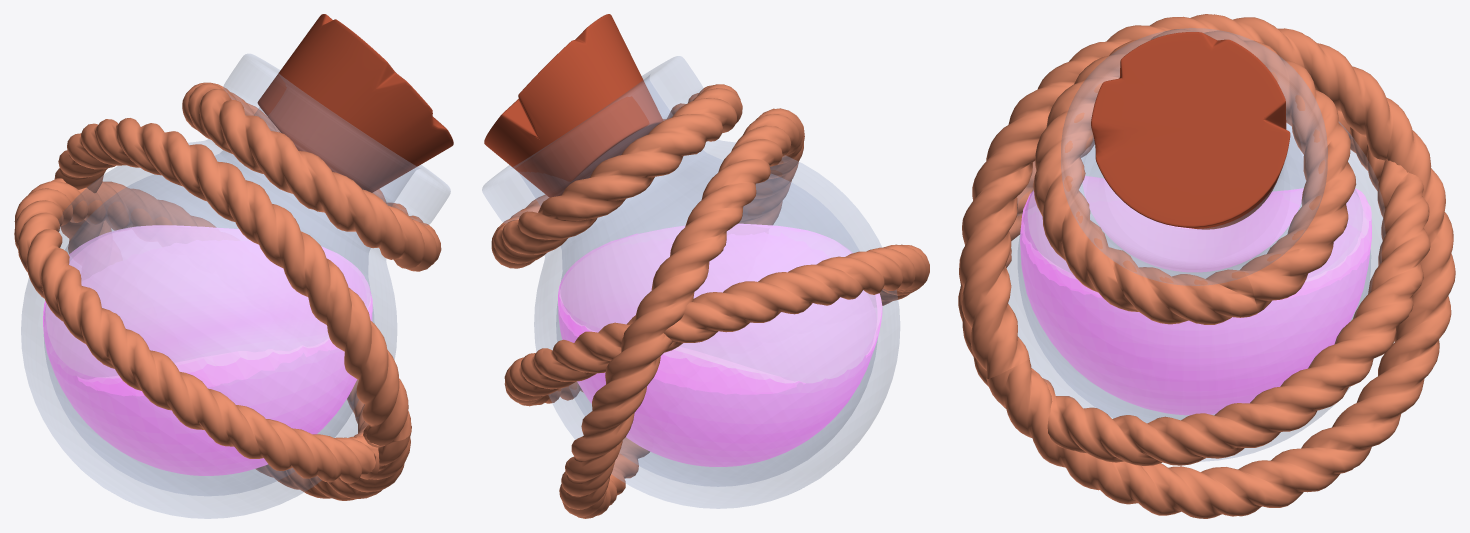
The model's file is SM_Potion.fbx.
The picture shows the model from 3 angles, left to right: view 1: azimuth 30°, elevation 25°; view 2: azimuth 150°, elevation 25°; view 3: azimuth 270°, elevation 25°; orthographic projection. The views are drawn at different scales.
Visible parts, largest first — view 1: bottle, potion, rope.003, rope.001, cork, rope.002; view 2: bottle, potion, rope.003, cork, rope.001, rope.002; view 3: bottle, rope.003, potion, rope.002, cork, rope.001.
Boxes of the visible parts, left/top/right/bottom form: bottle: left=21, top=54, right=450, bottom=518; potion: left=43, top=225, right=372, bottom=475; rope.003: left=54, top=118, right=411, bottom=500; rope.001: left=14, top=178, right=387, bottom=483; cork: left=257, top=14, right=453, bottom=192; rope.002: left=182, top=82, right=441, bottom=271; bottle: left=482, top=56, right=899, bottom=508; potion: left=558, top=223, right=882, bottom=466; rope.003: left=559, top=108, right=804, bottom=518; cork: left=484, top=14, right=663, bottom=197; rope.001: left=504, top=244, right=929, bottom=406; rope.002: left=491, top=84, right=742, bottom=268; bottle: left=1006, top=28, right=1385, bottom=461; rope.003: left=959, top=14, right=1455, bottom=518; potion: left=1020, top=176, right=1371, bottom=415; rope.002: left=1033, top=29, right=1356, bottom=324; cork: left=1091, top=32, right=1290, bottom=229; rope.001: left=958, top=110, right=1430, bottom=465.
Size of the model in its own units: 0.1209 by 0.1221 by 0.1353.
